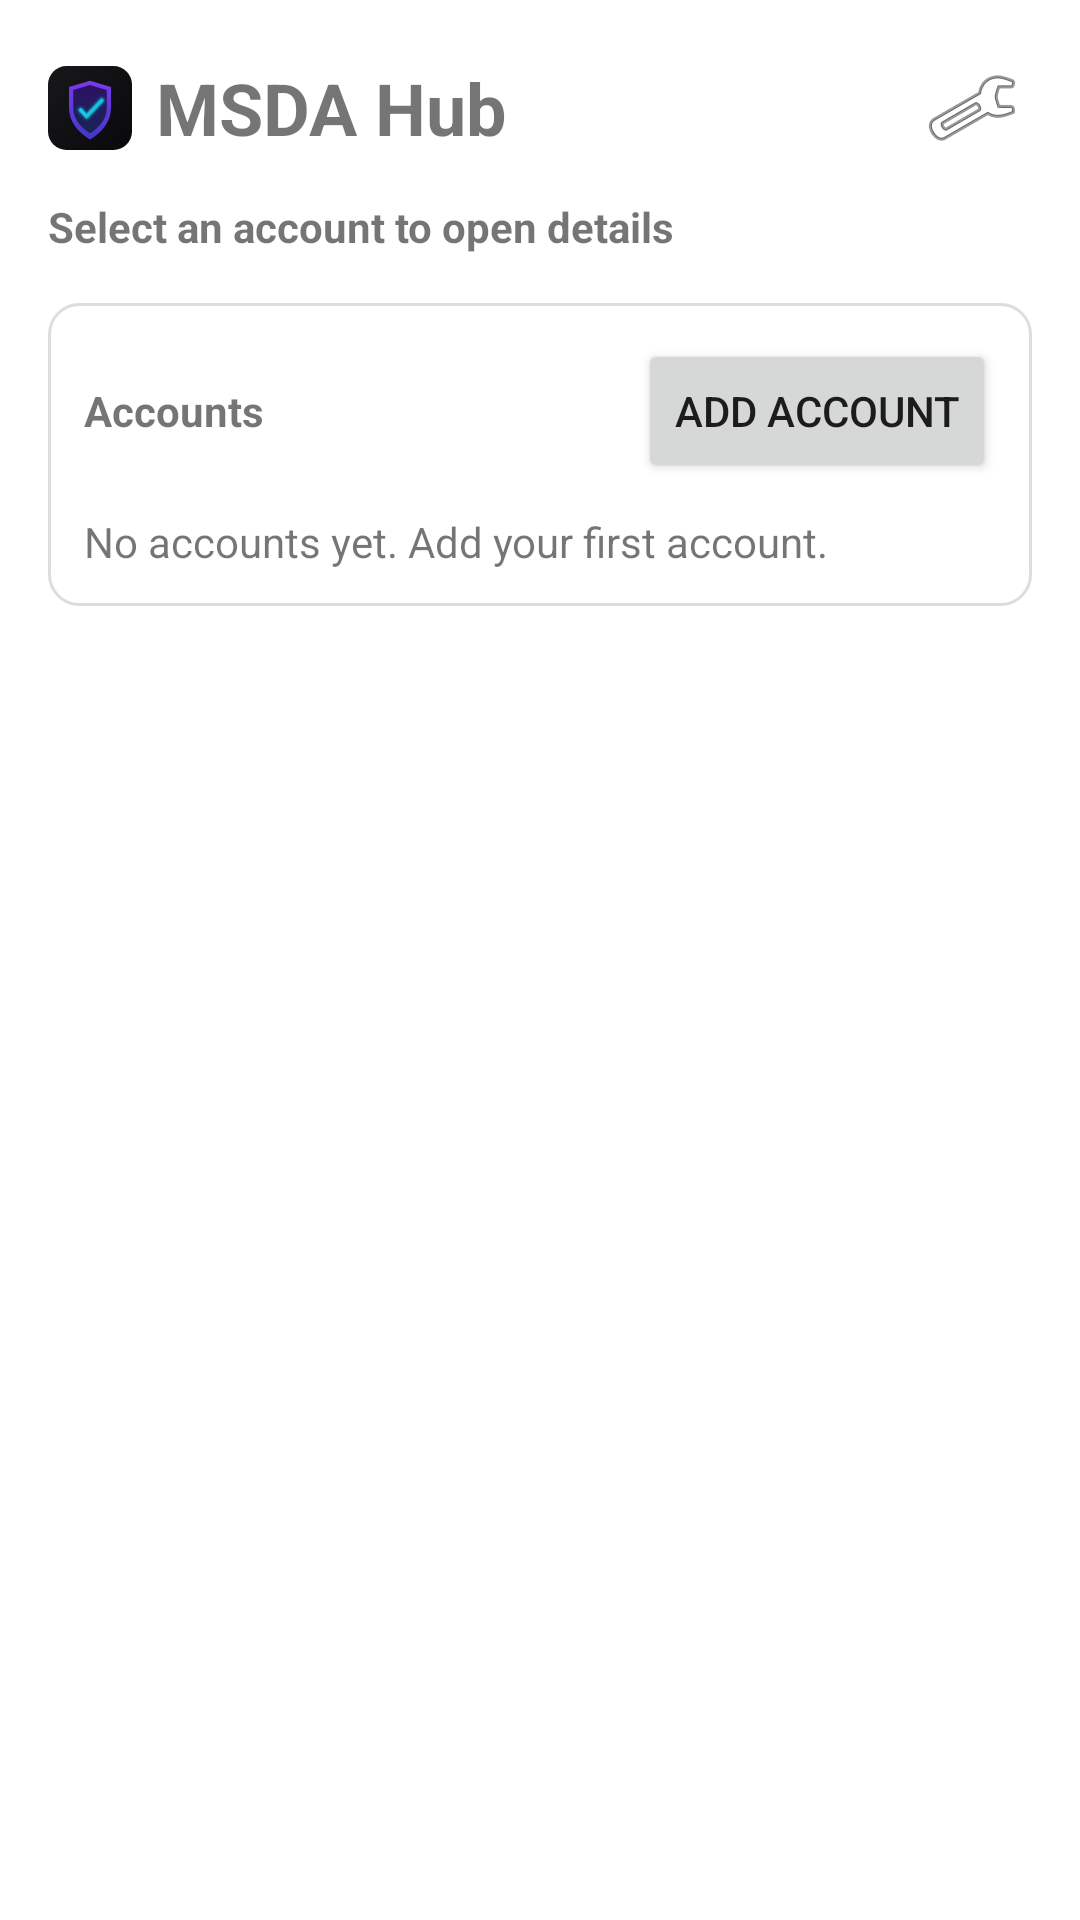

Screen size 1080w x 1920h. Icon name, then its center in pixels as (x=x, y=y):
Settings: (x=972, y=108)
